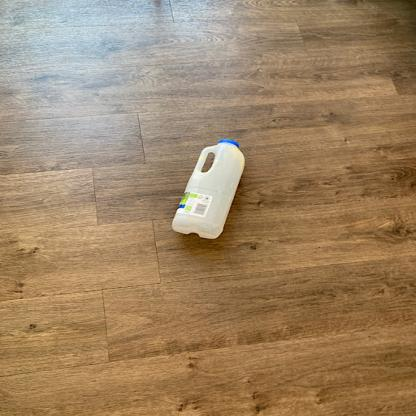trash: (168, 139, 248, 240)
